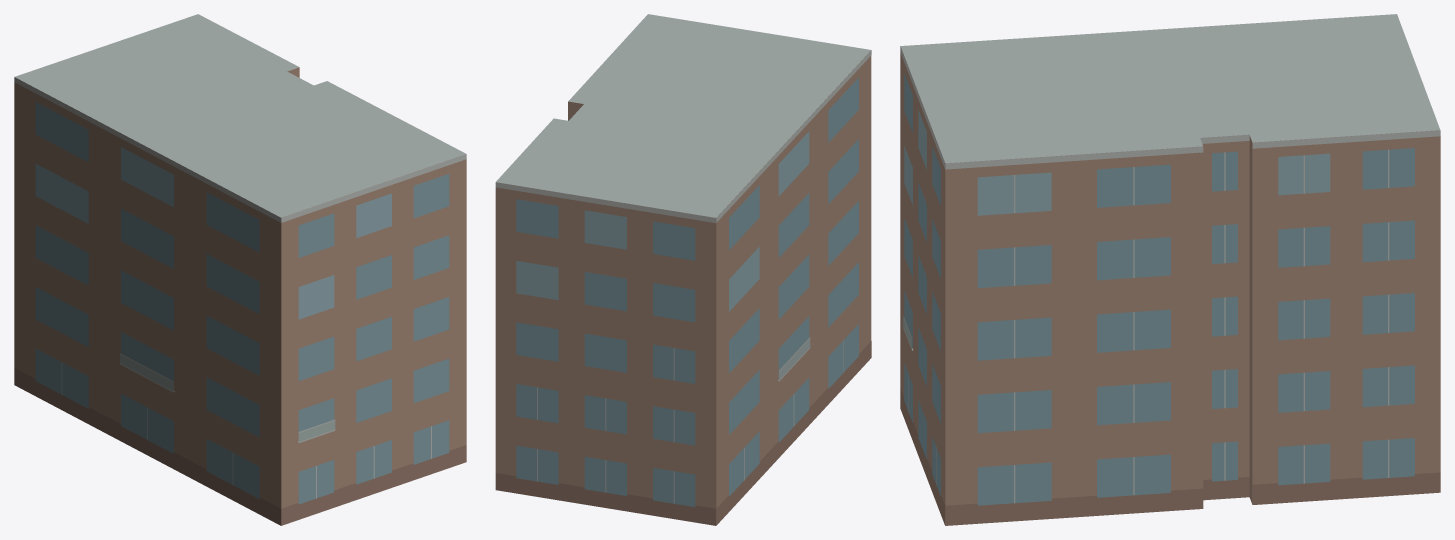
File: survey-upis-32574753.glb
3 views of the same model, side by side, from view 1: azimuth 30°, elevation 25°; view 2: azimuth 150°, elevation 25°; view 3: azimuth 270°, elevation 25° (orthographic). The views are drawn at different scales.
Parts seen in each view (by area): view 1: survey-upis-32574753.tmp; view 2: survey-upis-32574753.tmp; view 3: survey-upis-32574753.tmp.
Part boxes in pixels (bbox=[...]): survey-upis-32574753.tmp: bbox=[14, 14, 466, 525]; survey-upis-32574753.tmp: bbox=[495, 14, 871, 525]; survey-upis-32574753.tmp: bbox=[900, 14, 1440, 525].
Size of the model in its own units: 12.74 by 14.4 by 19.46.
